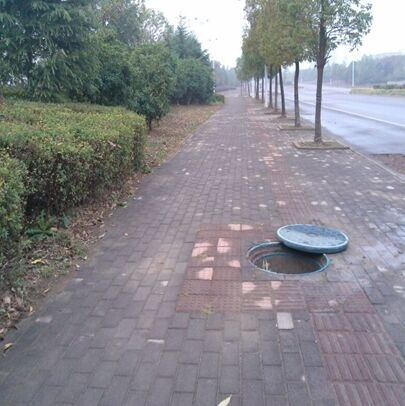uncovered: (246, 223, 349, 277)
